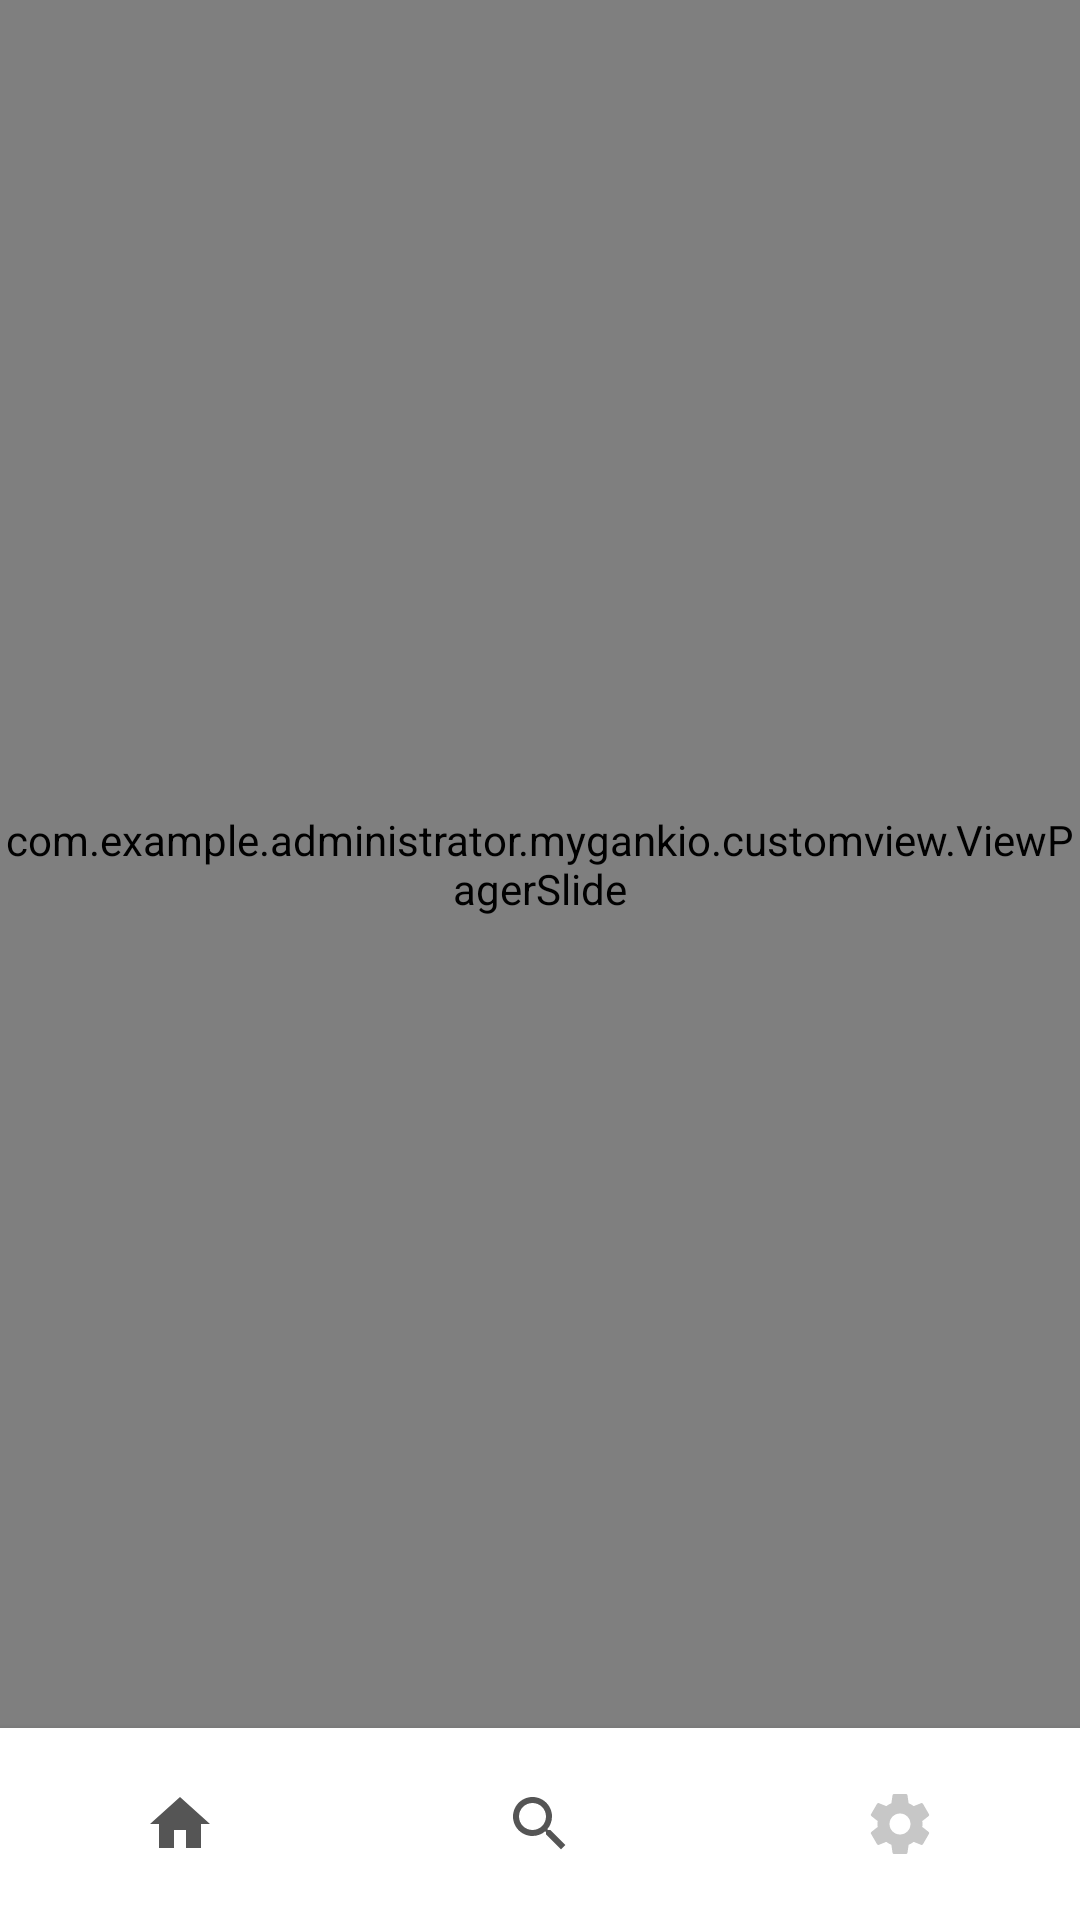

Point at icon controls on the screen. Image size 1080px x 1920px, points as [x,y].
home: [180,1822]
search: [539,1823]
settings: [900,1824]
